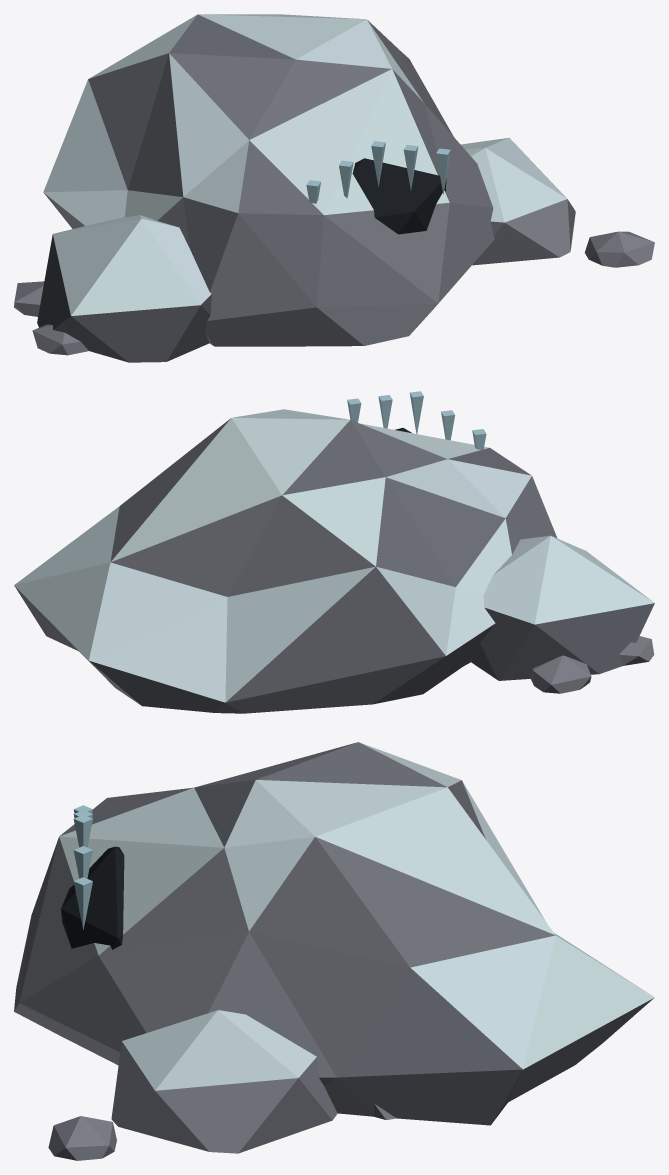
The model's file is lair-cave-big.glb.
The picture shows the model from 3 angles, top to bottom: view 1: azimuth 30°, elevation 25°; view 2: azimuth 150°, elevation 25°; view 3: azimuth 270°, elevation 25°; orthographic projection. The views are drawn at different scales.
Visible parts, largest first — view 1: lair-cave-big; view 2: lair-cave-big; view 3: lair-cave-big.
Boxes of the visible parts, box(x1,y1,x2,y2) form: lair-cave-big: box(14, 14, 654, 362); lair-cave-big: box(14, 391, 654, 713); lair-cave-big: box(14, 742, 654, 1160).
Size of the model in its own units: 8.15 by 2.79 by 7.11.
